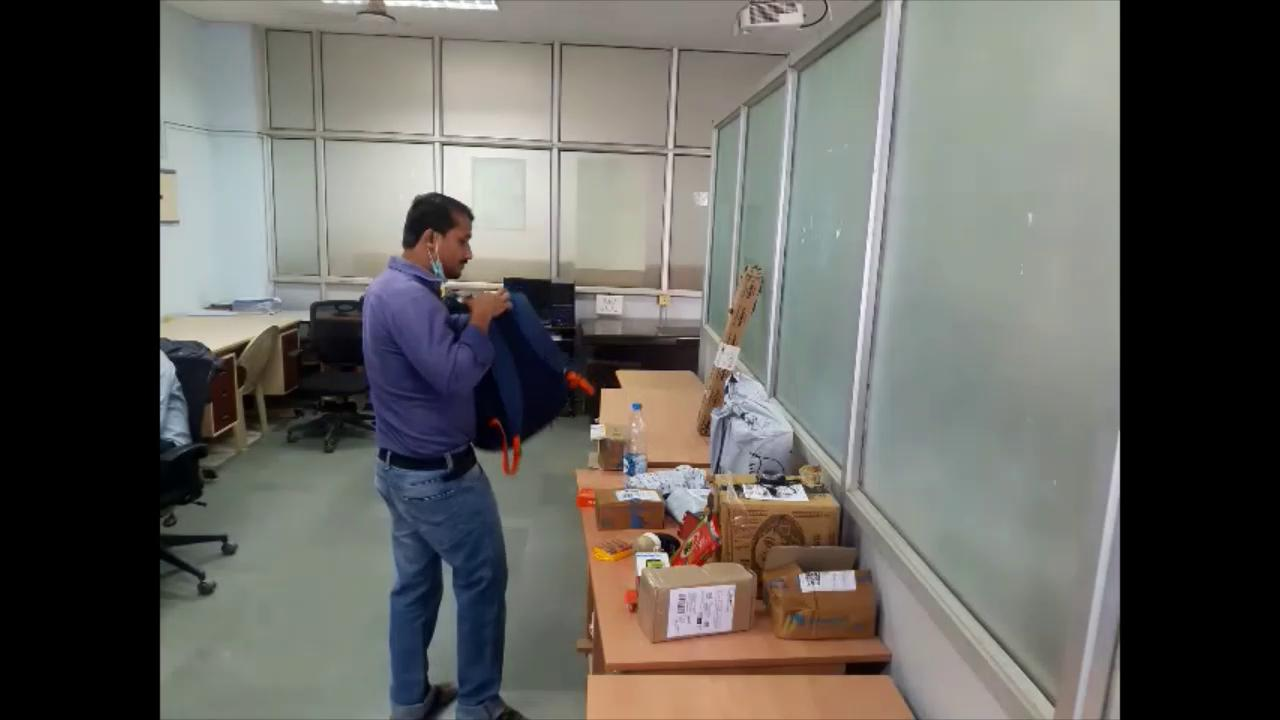shoplifting: (340, 187, 600, 720)
